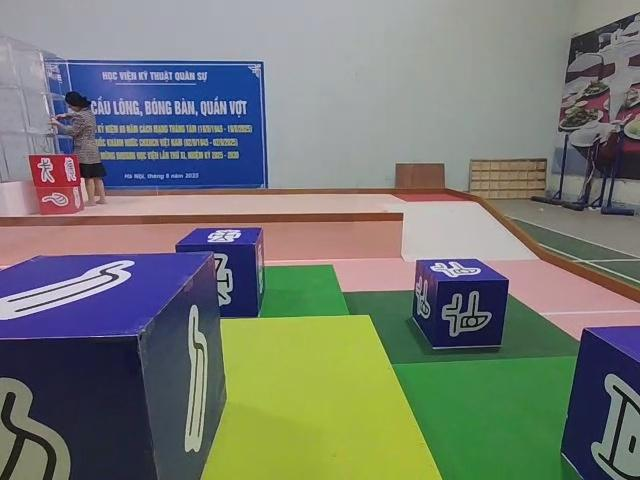R2 Real Blue: (0, 249, 231, 480), (557, 321, 640, 480), (413, 260, 512, 353)
